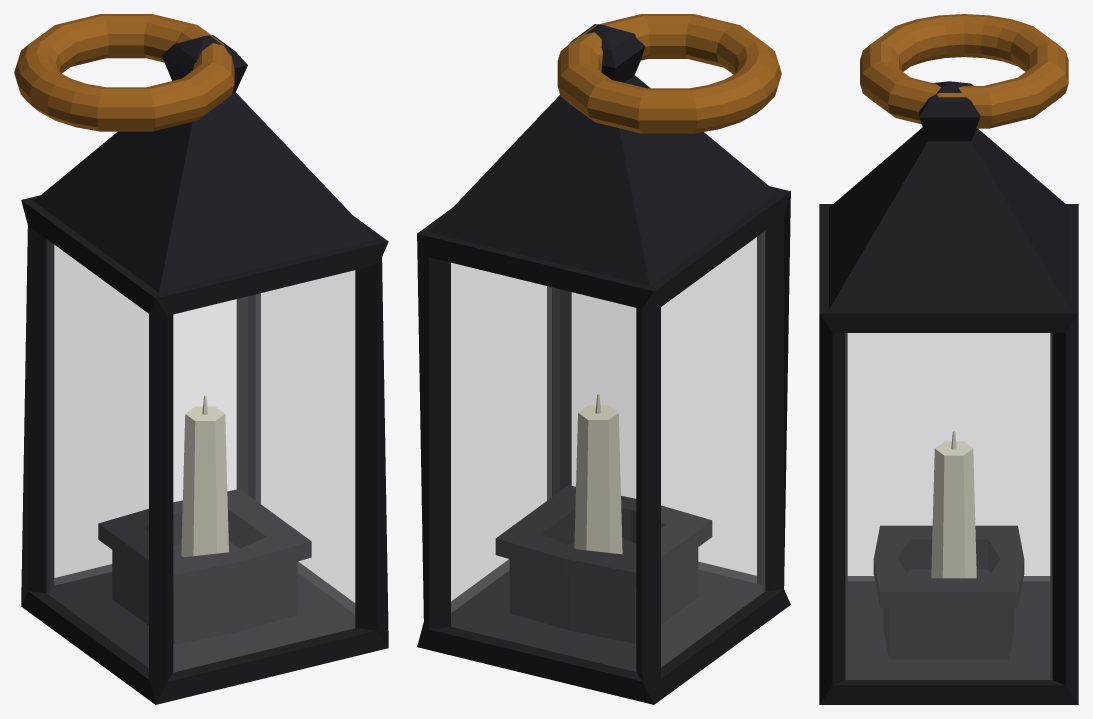
Rendered from Lamp.glb.
The picture shows the model from 3 angles, left to right: view 1: azimuth 30°, elevation 25°; view 2: azimuth 150°, elevation 25°; view 3: azimuth 270°, elevation 25°; orthographic projection. The views are drawn at different scales.
Visible parts, largest first — view 1: Lamp_v2-col, Lamp_v1.003; view 2: Lamp_v2-col, Lamp_v1.003; view 3: Lamp_v2-col, Lamp_v1.003.
Boxes of the visible parts, x1,y1,x2,y2 form: Lamp_v2-col: (21,35,388,704); Lamp_v1.003: (14,14,234,131); Lamp_v2-col: (417,24,790,704); Lamp_v1.003: (557,14,781,133); Lamp_v2-col: (819,81,1078,704); Lamp_v1.003: (860,14,1068,128).
Bounding box in the file's own units: 0.366 × 0.7269 × 0.3.
